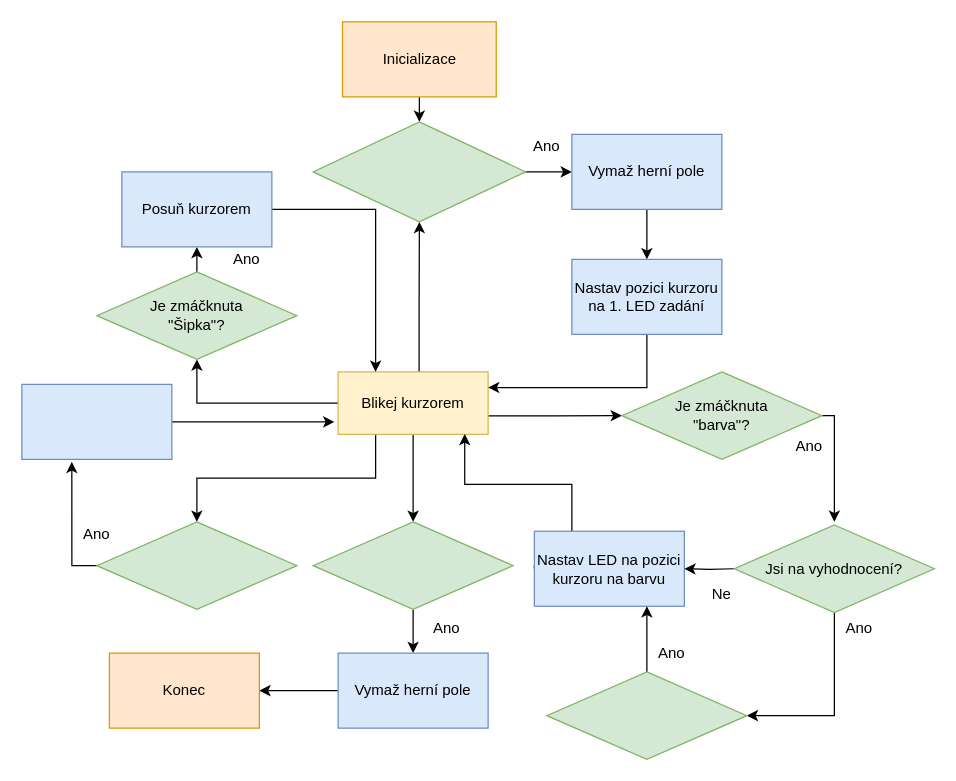
Image size: 956x781. Some labels were removed from this diagram. The shapes that lost their labels are listed below. From the top down, each one's box as (x1, y1, x2, y2) in pixels, then its label:
(312, 121, 526, 222): Je stisknuto tlačítko "Nová hra"
(21, 383, 172, 459): Posuň kurzor na 1. LED dalšího řádku následující části
(96, 521, 297, 609): Je zmáčknuto "Potvrdit tah"?
(312, 521, 513, 609): Je zmáčknut "Konec"?
(546, 671, 747, 759): Je vybraná barva červená nebo žlutá?
